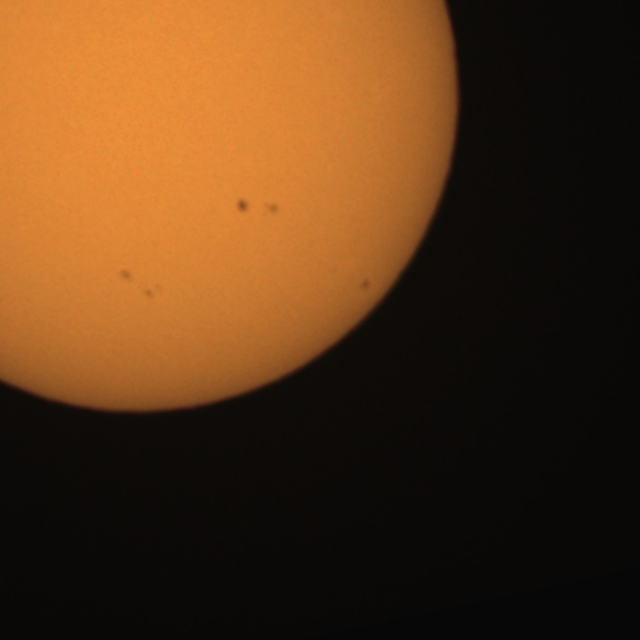sunspot: (116, 267, 159, 299), (233, 197, 281, 219), (262, 200, 281, 218), (117, 267, 134, 285), (234, 197, 251, 215), (357, 277, 373, 294)
